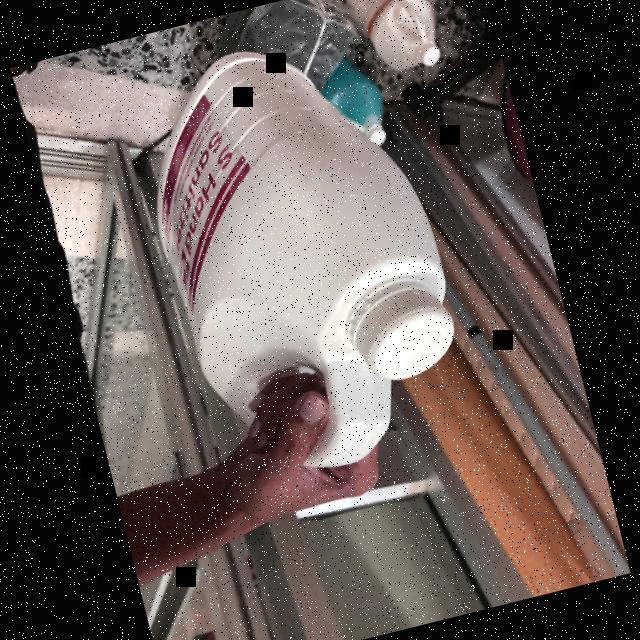chemical_plastic_gallon: (117, 16, 486, 502)
